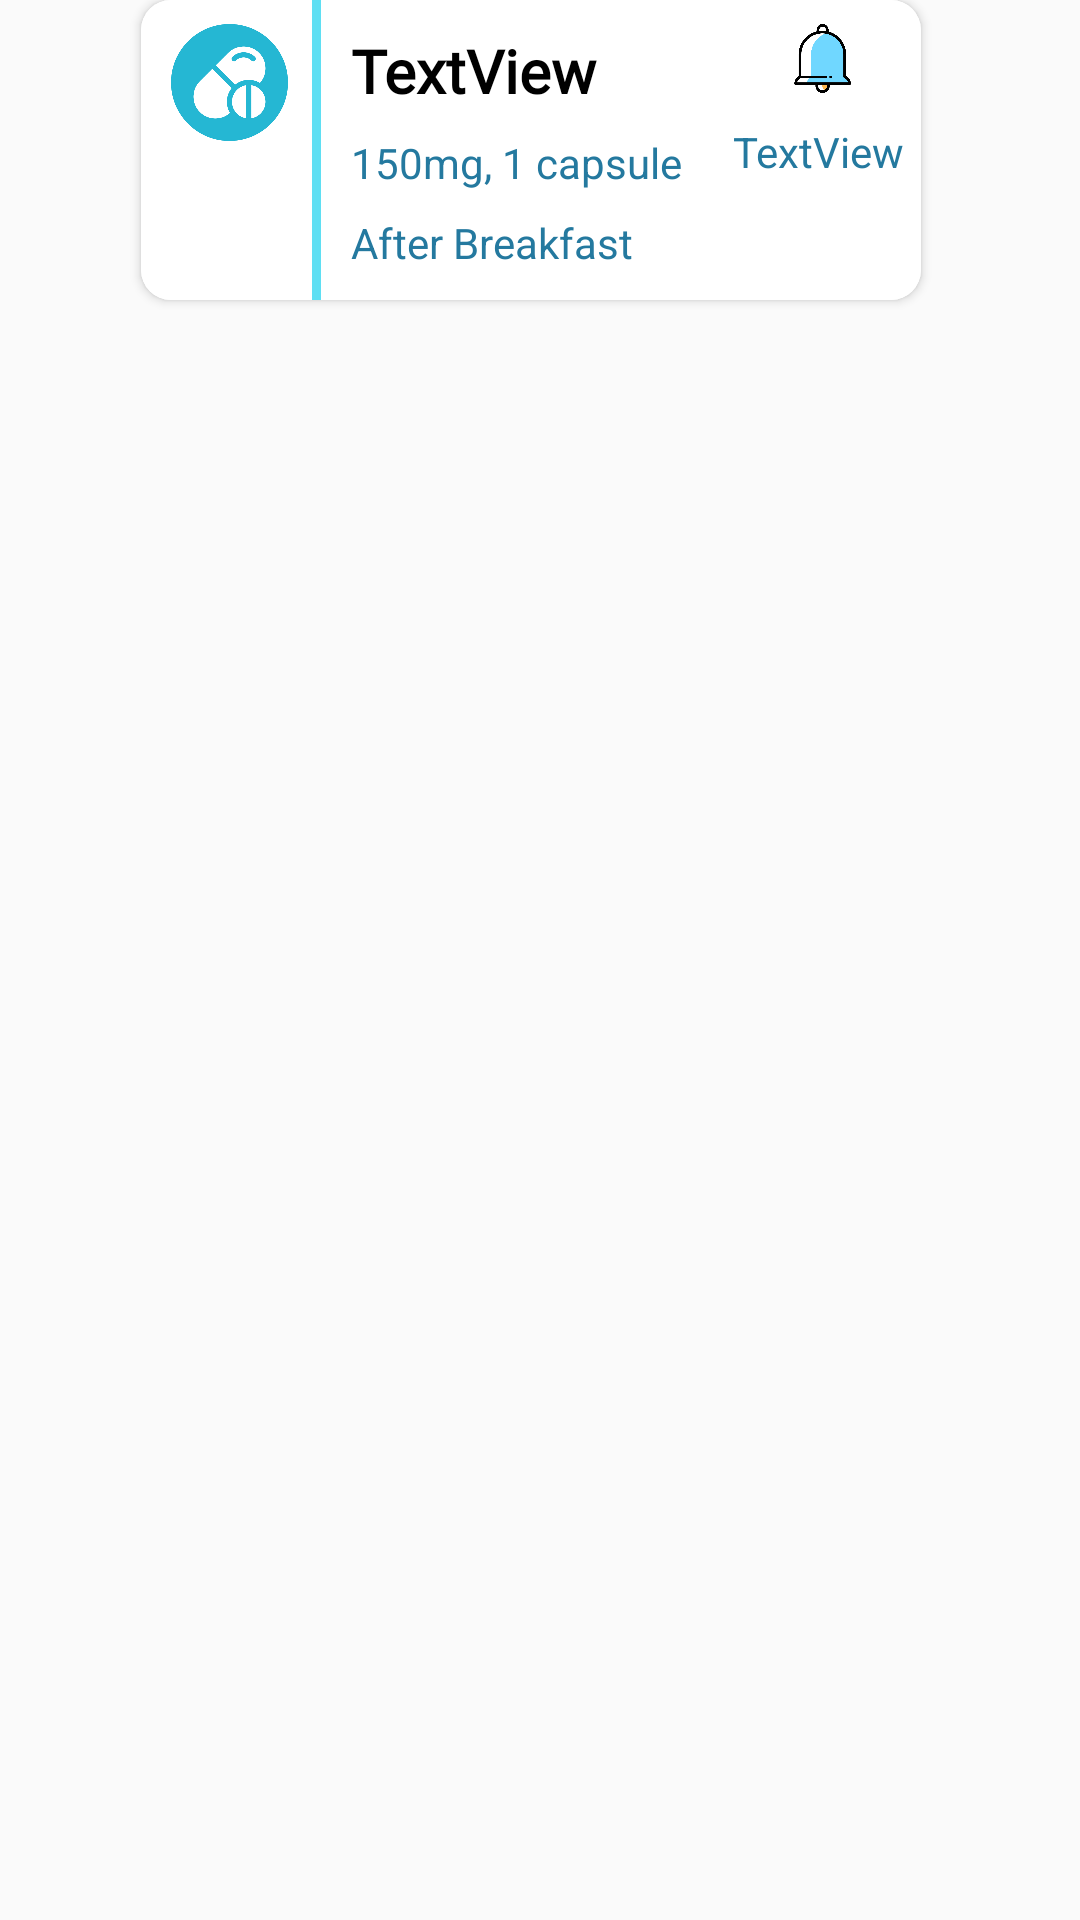

Screen size 1080×1920. Icon name, then its center in pixels as (x=x, y=y):
medicine: (x=229, y=82)
notification bell: (x=822, y=58)
